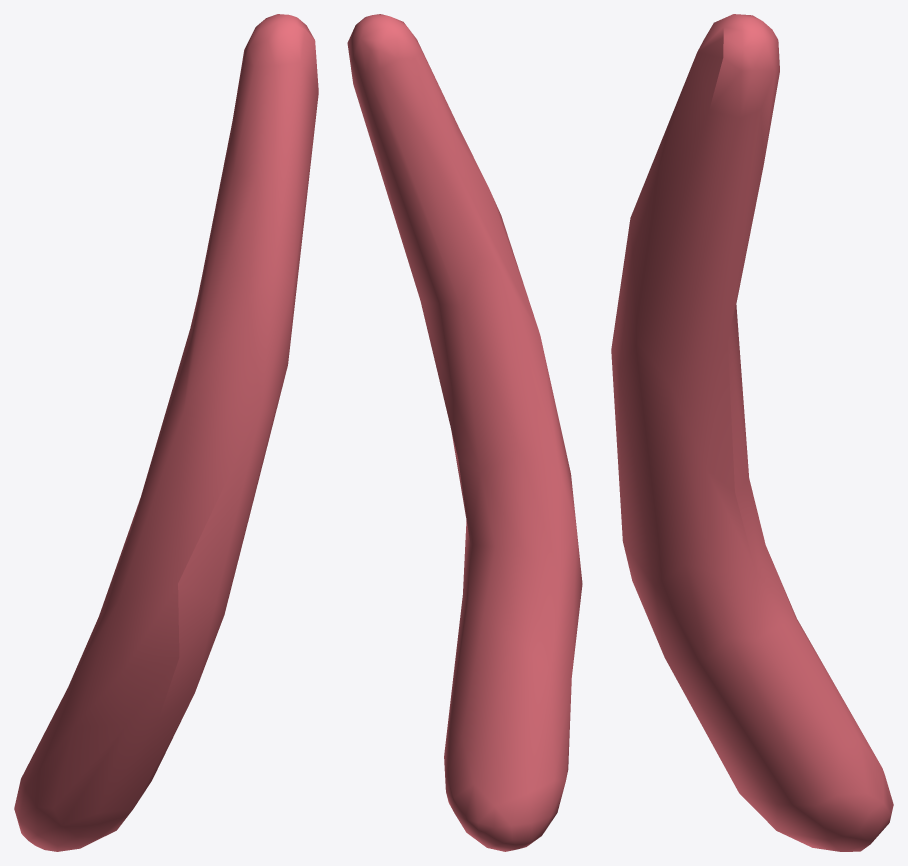
The model's file is fma68880_fj3031.glb.
3 views of the same model, side by side, from view 1: azimuth 30°, elevation 25°; view 2: azimuth 150°, elevation 25°; view 3: azimuth 270°, elevation 25° (orthographic). The views are drawn at different scales.
Visible parts, largest first — view 1: FMA68880_FJ3031; view 2: FMA68880_FJ3031; view 3: FMA68880_FJ3031.
Boxes of the visible parts, x1,y1,x2,y2 form: FMA68880_FJ3031: (14, 14, 318, 851); FMA68880_FJ3031: (347, 14, 582, 851); FMA68880_FJ3031: (611, 14, 893, 851).
Size of the model in its own units: 0.0136 by 0.0415 by 0.0114.
